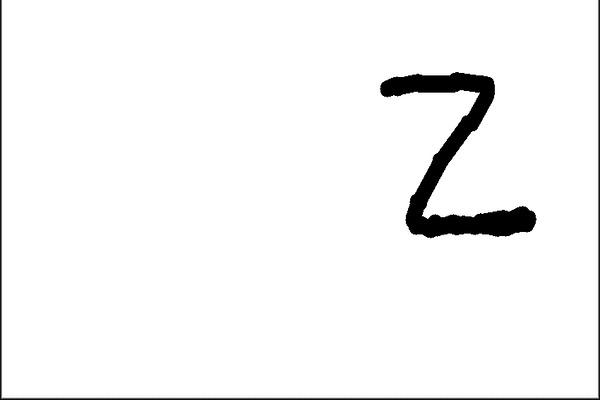Z: (370, 59, 542, 249)
